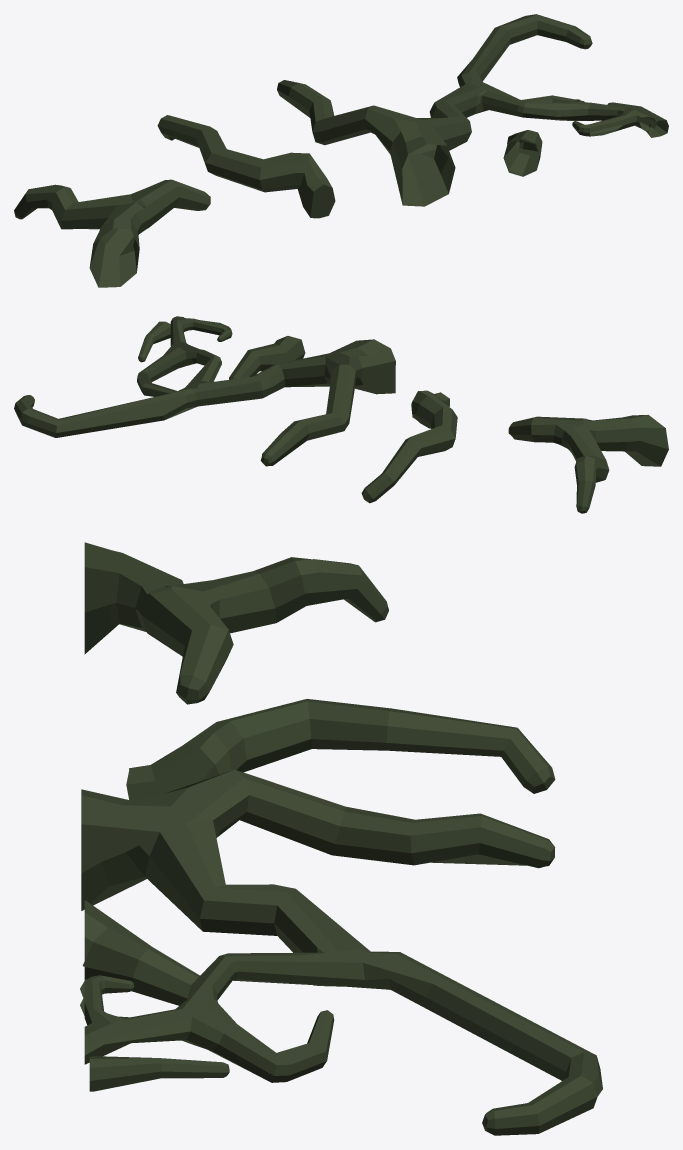
File: EA_Swamp_Root_03d.glb
3 views of the same model, one above another, from view 1: azimuth 30°, elevation 25°; view 2: azimuth 150°, elevation 25°; view 3: azimuth 270°, elevation 25° (orthographic). The views are drawn at different scales.
Parts seen in each view (by area): view 1: EA_Swamp_Root_03d; view 2: EA_Swamp_Root_03d; view 3: EA_Swamp_Root_03d.
Part boxes in pixels (<box>): EA_Swamp_Root_03d: <box>14,14,668,287</box>; EA_Swamp_Root_03d: <box>14,316,668,513</box>; EA_Swamp_Root_03d: <box>80,542,602,1135</box>.
Bounding box in the file's own units: 6.76 × 0.7948 × 2.82.
Materials: 1 (1 with a texture image).
